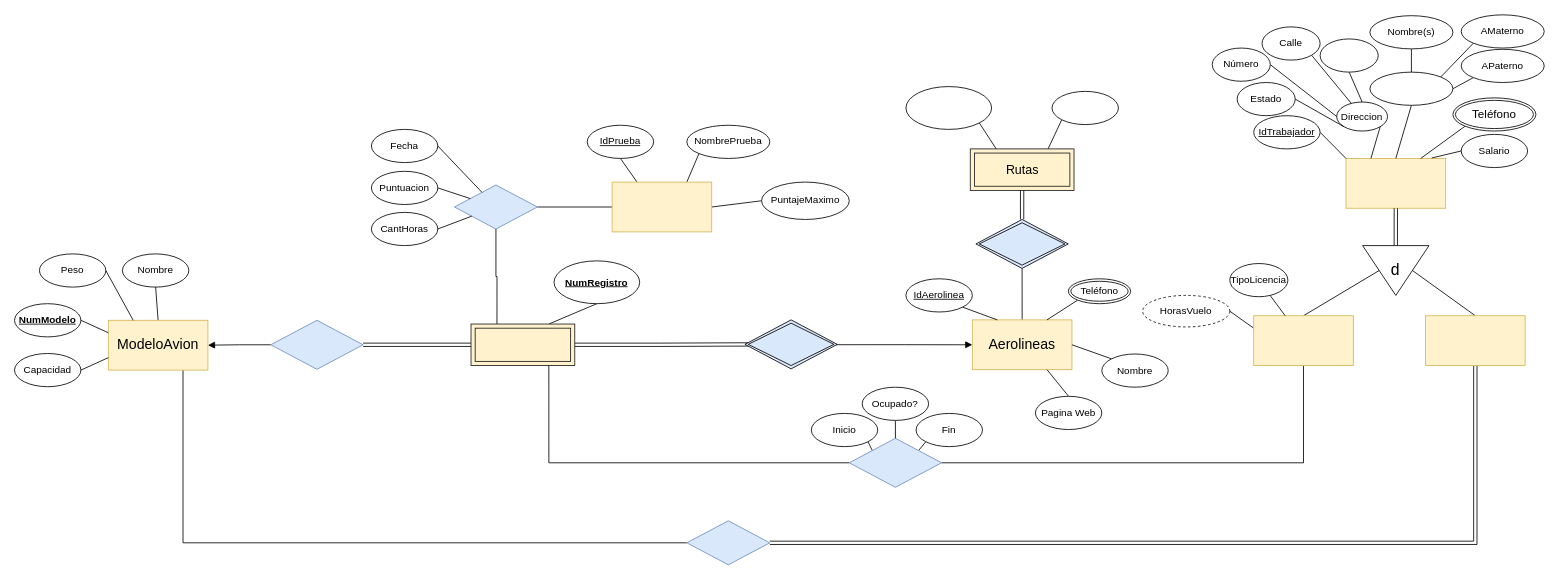
This 1559x579 diagram has some shape labels left out. Each missing label, with the centre of its shape:
"Arreglar" goes at point 728,542.
"Avion" goes at point 522,344.
"Ciudad" goes at point 1084,108.
"CP" goes at point 1348,55.
"IdRuta" goes at point 948,107.
"Implementar" goes at point 316,344.
"NombreC" goes at point 1411,88.
"Ofertar" goes at point 1021,243.
"Pilotar" goes at point 895,462.
"Piloto" goes at point 1303,340.
"Poseer" goes at point 790,344.
"Prueba" goes at point 661,206.
"Realizar" goes at point 495,206.
"Tecnico" goes at point 1475,340.
"Trabajador" goes at point 1395,183.
